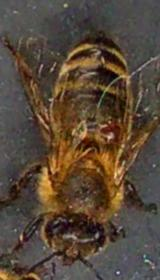varroa_mite: (90, 112, 126, 152)
